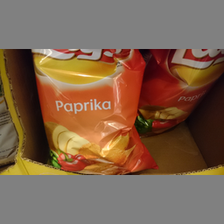chips: (31, 50, 157, 172), (142, 50, 224, 136)
